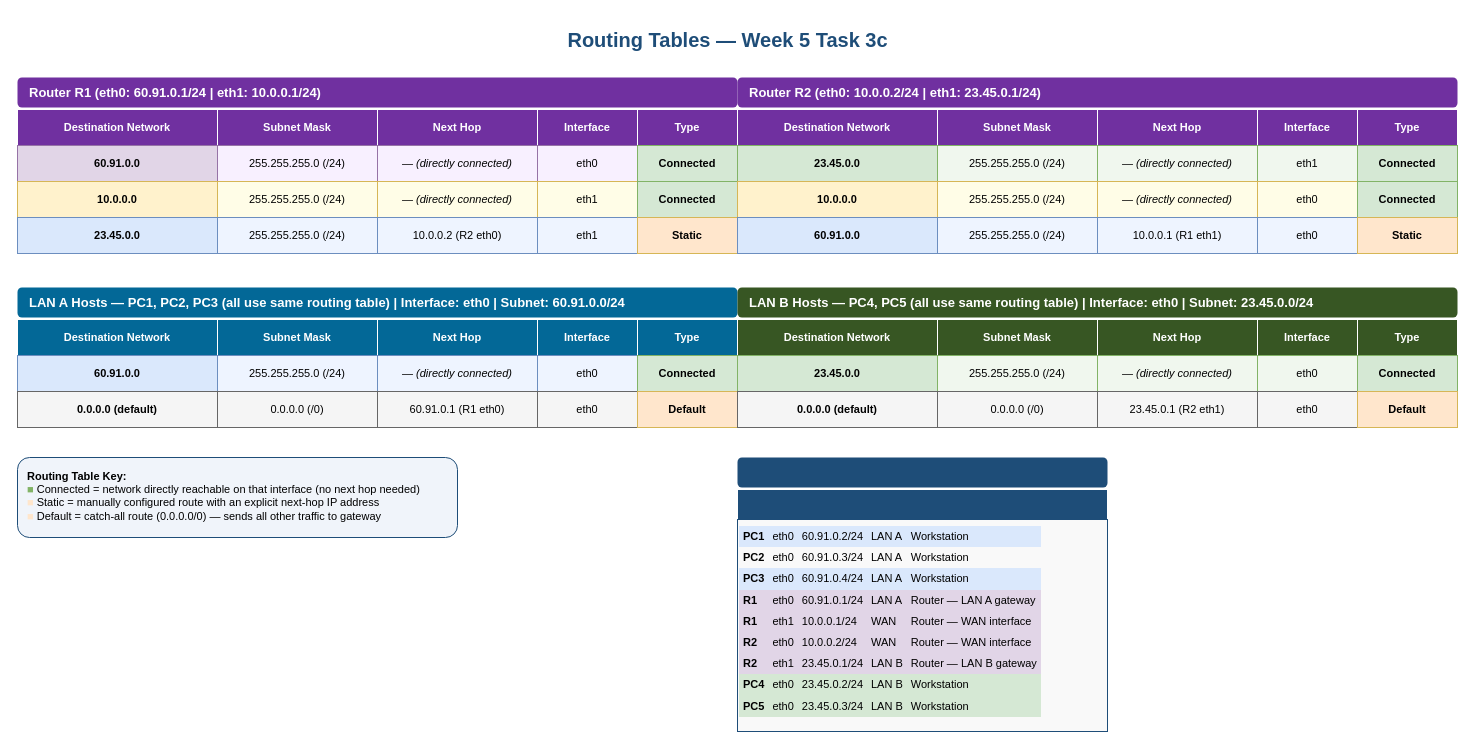
This 1475x749 diagram has some shape labels left out. Here are the shapes that lost their labels. From the top down, the centre of each, then its label:
the point at 922,472: IP Address Assignment Summary
the point at 922,504: Device | Interface | IP Address | Network | Role
